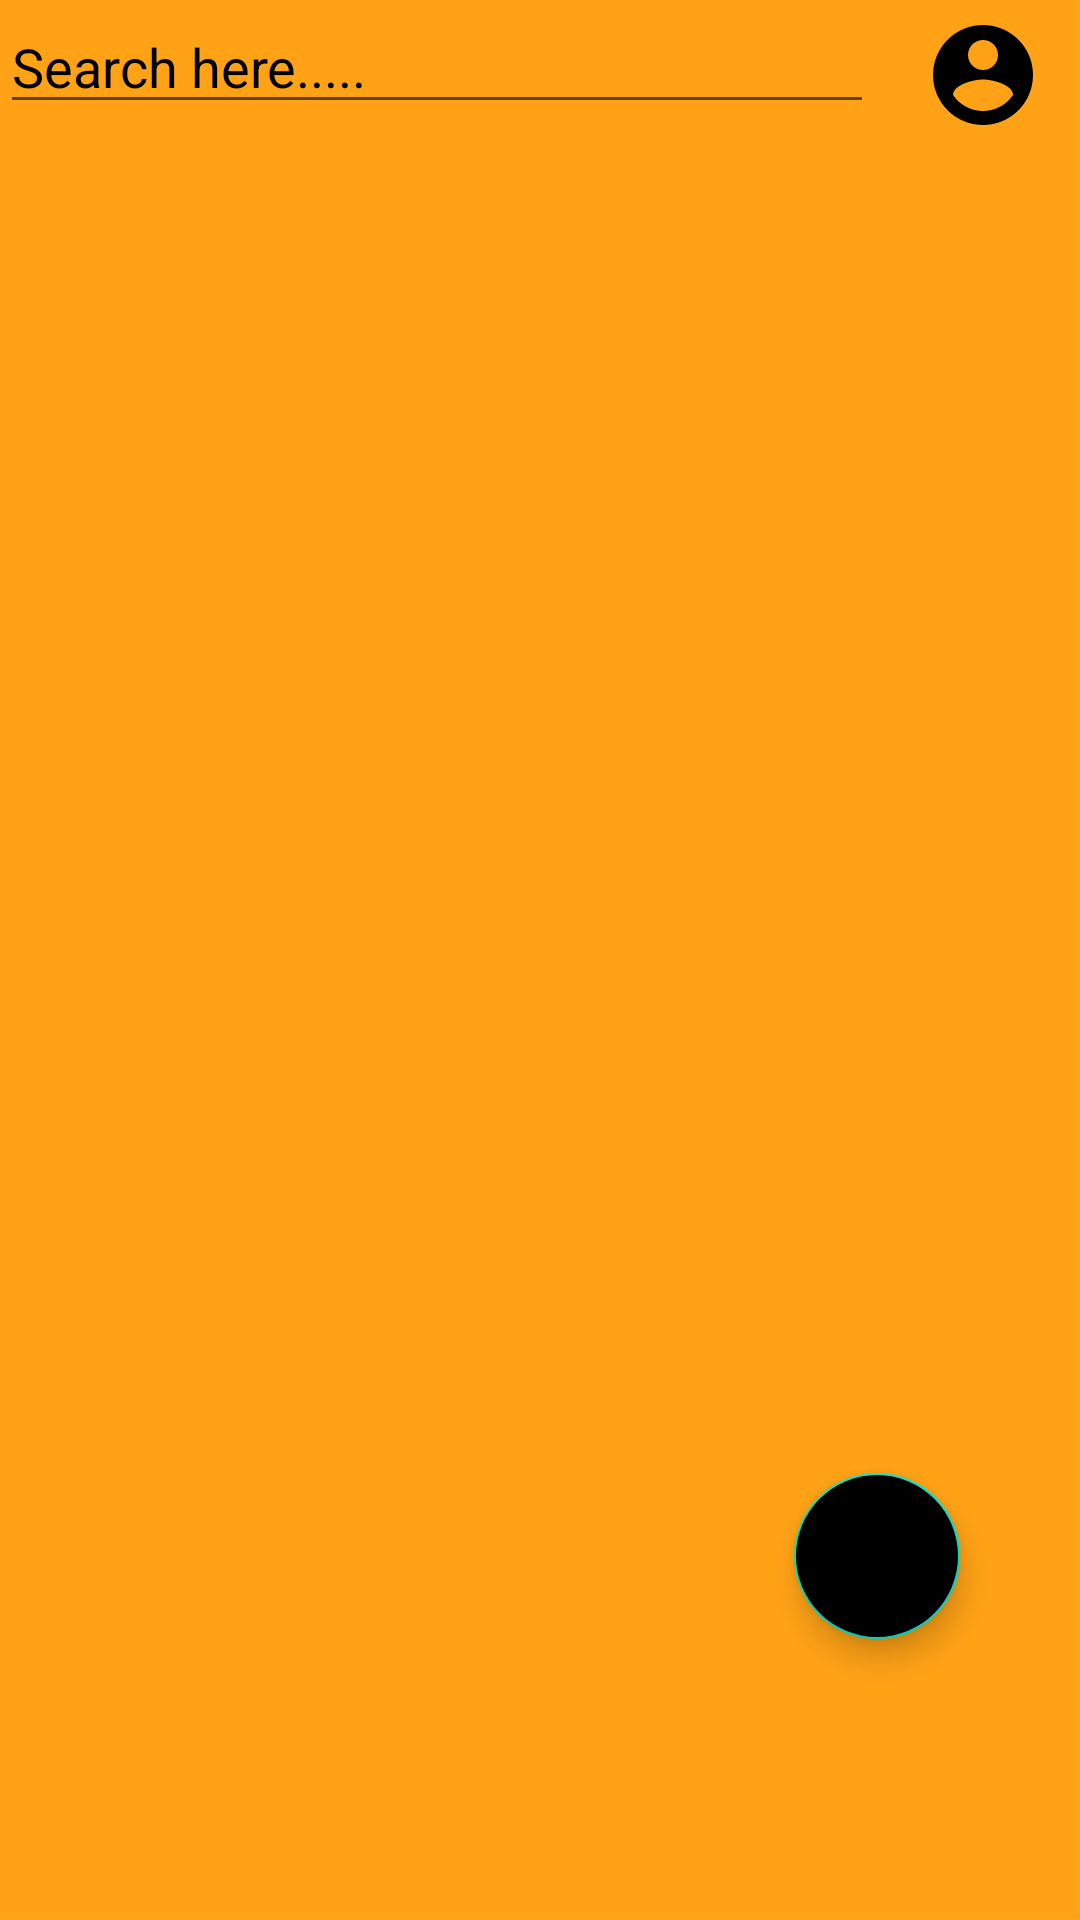

Screen size 1080*1920. Icon name, then its center in pixels as (x=x, y=y):
account circle: (x=983, y=75)
